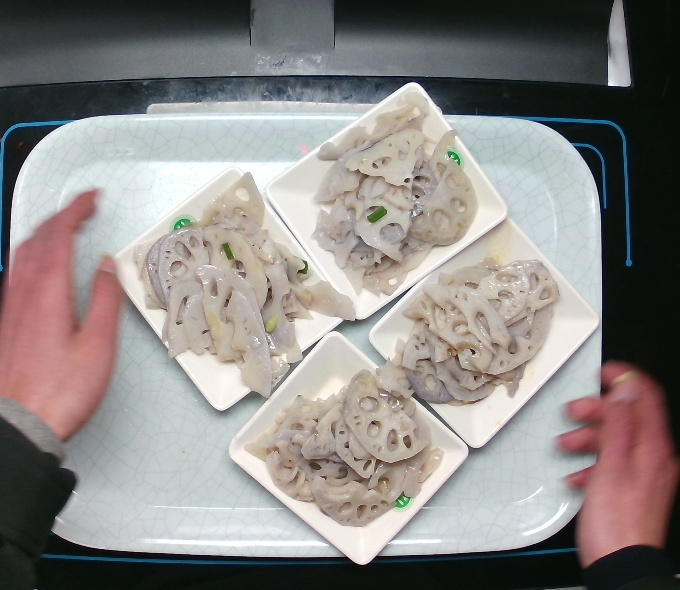wcq-OuPian: (126, 171, 363, 397), (247, 345, 448, 526), (308, 95, 478, 298), (388, 254, 567, 421)
